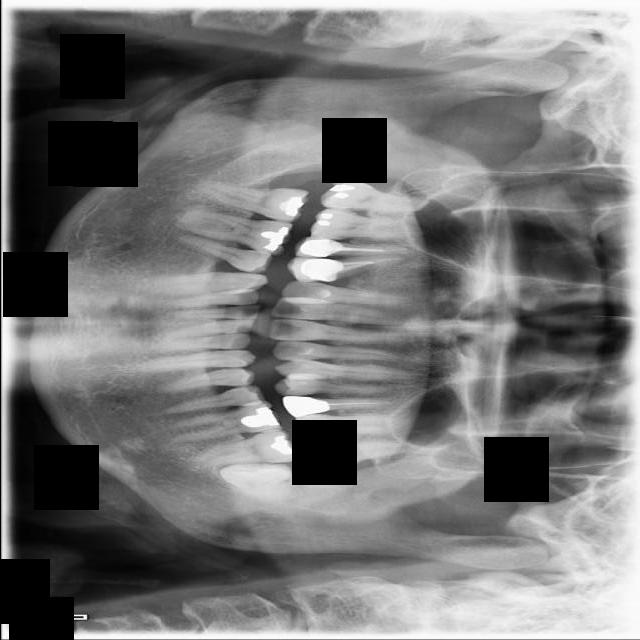52: (252, 421, 300, 473), (264, 179, 311, 230), (248, 212, 294, 260), (236, 395, 283, 439), (318, 177, 373, 213), (307, 204, 355, 245), (280, 279, 346, 306), (285, 255, 344, 285), (305, 439, 352, 473), (293, 411, 340, 444), (271, 339, 329, 363), (292, 235, 343, 260), (280, 395, 330, 420)
73: (329, 243, 410, 281), (326, 241, 412, 259), (319, 398, 391, 412), (14, 616, 24, 624)
BioHorizons Implant: (305, 441, 431, 470)
Biomet 3i Implant: (216, 459, 298, 505)
Blue Sky Bio Implant: (192, 427, 299, 472)
Caries: (318, 177, 438, 220)
Implant: (192, 175, 310, 225)
